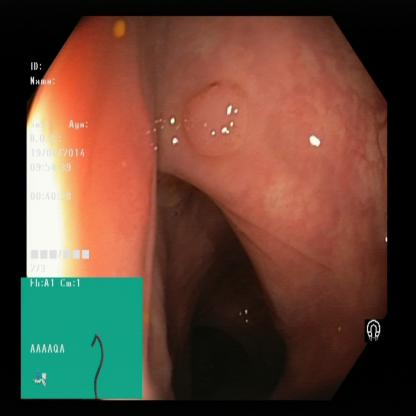Labels: (23, 56, 97, 276), (20, 276, 144, 402), (363, 312, 385, 346)
Polyps: (188, 73, 254, 159), (278, 91, 350, 167)
